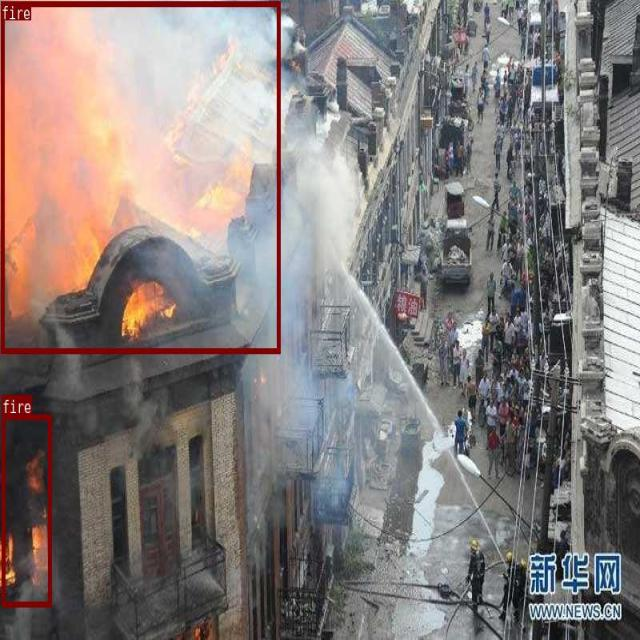fire: (1, 0, 279, 352), (1, 414, 50, 605)
